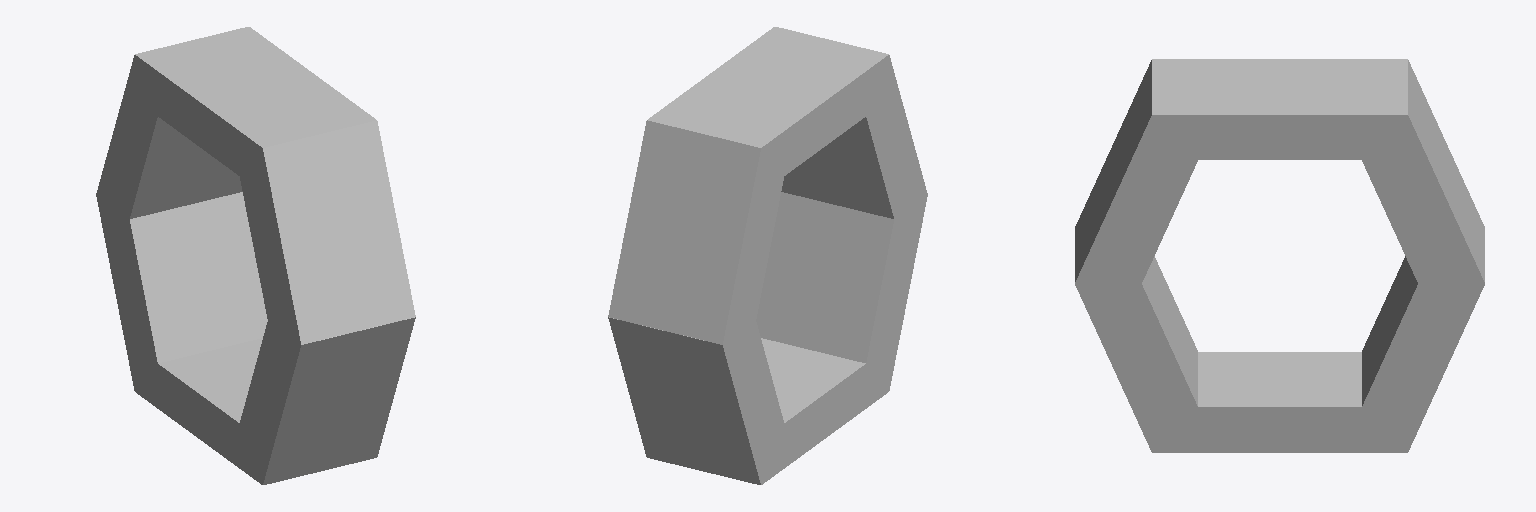
File: clu_back_door.obj
3 renders of one model, left to right at view 1: azimuth 30°, elevation 25°; view 2: azimuth 150°, elevation 25°; view 3: azimuth 270°, elevation 25°, orthographic.
Visible parts, largest first — view 1: cube.003, cube.000, cube.005, cube.002, cube.004, cube.001, cube, cube.006; view 2: cube.002, cube.005, cube.000, cube.003, cube.001, cube.004, cube.006, cube; view 3: cube.003, cube.002, cube.001, cube.004, cube.005, cube.000, cube, cube.006.
Part boxes in pixels (left/top/right/bottom): cube.003: left=234, top=120, right=415, bottom=345; cube.000: left=96, top=192, right=267, bottom=390; cube.005: left=234, top=304, right=415, bottom=484; cube.002: left=96, top=55, right=242, bottom=236; cube.004: left=199, top=73, right=375, bottom=190; cube.001: left=135, top=27, right=311, bottom=145; cube: left=135, top=338, right=262, bottom=438; cube.006: left=199, top=381, right=262, bottom=484; cube.002: left=608, top=120, right=789, bottom=345; cube.005: left=756, top=192, right=927, bottom=391; cube.000: left=608, top=304, right=783, bottom=484; cube.003: left=781, top=55, right=927, bottom=236; cube.001: left=648, top=73, right=824, bottom=191; cube.004: left=712, top=27, right=888, bottom=145; cube.006: left=761, top=338, right=888, bottom=438; cube: left=761, top=381, right=824, bottom=484; cube.003: left=1075, top=60, right=1208, bottom=304; cube.002: left=1351, top=60, right=1484, bottom=304; cube.001: left=1280, top=59, right=1407, bottom=159; cube.004: left=1152, top=59, right=1279, bottom=159; cube.005: left=1075, top=256, right=1208, bottom=451; cube.000: left=1351, top=256, right=1484, bottom=451; cube: left=1280, top=352, right=1407, bottom=452; cube.006: left=1152, top=352, right=1279, bottom=452.
Bounding box in the file's own units: 1.93 × 5.45 × 6.